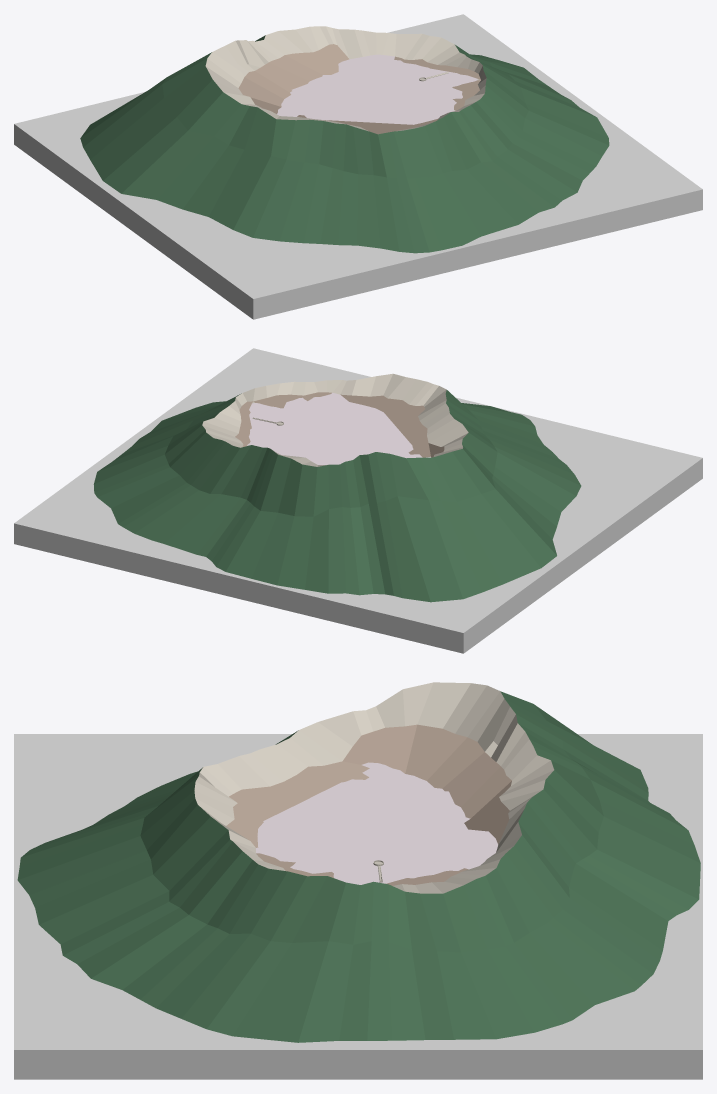
Rendered from kawah putih 1.fbx.
3 views of the same model, one above another, from view 1: azimuth 30°, elevation 25°; view 2: azimuth 150°, elevation 25°; view 3: azimuth 270°, elevation 25° (orthographic). The views are drawn at different scales.
Parts seen in each view (by area): view 1: Cube, Cube.001; view 2: Cube, Cube.001; view 3: Cube, Cube.001.
Boxes of the visible parts, x1,y1,x2,y2 form: Cube: [80, 26, 609, 253]; Cube.001: [14, 14, 702, 319]; Cube: [93, 373, 581, 602]; Cube.001: [14, 348, 702, 653]; Cube: [17, 682, 700, 1042]; Cube.001: [14, 734, 702, 1079].
Size of the model in its own units: 3433 by 841 by 3166.
